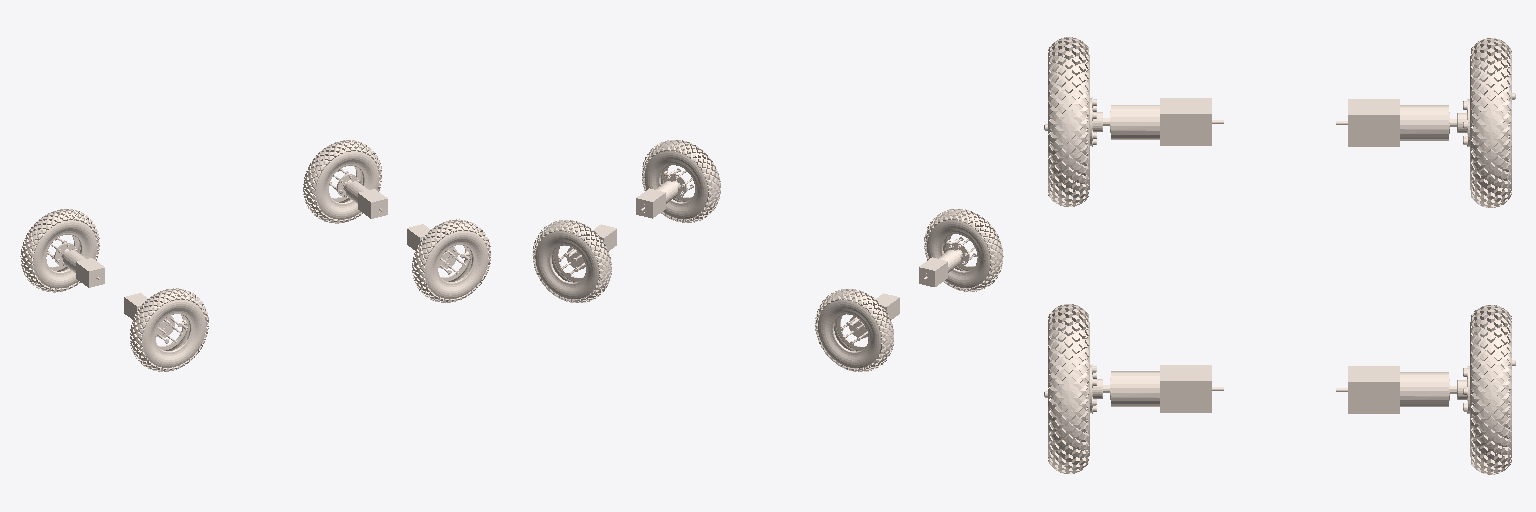
robot.urdf — ASIMOV_FINAL:
<?xml version="1.0" encoding="utf-8"?>
<!-- This URDF was automatically created by SolidWorks to URDF Exporter! Originally created by [author] ([email redacted]) 
     Commit Version: 1.6.0-4-g7f85cfe  Build Version: 1.6.7995.38578
     For more information, please see http://wiki.ros.org/sw_urdf_exporter -->
<robot
  name="ASIMOV_FINAL">
  <link
    name="base_link">
    <inertial>
      <origin
        xyz="-0.53696 -0.21064 0.13062"
        rpy="0 0 0" />
      <mass
        value="115.58" />
      <inertia
        ixx="1.3205"
        ixy="6.2294E-05"
        ixz="0.0013085"
        iyy="0.78204"
        iyz="-3.8013E-05"
        izz="1.2135" />
    </inertial>
    <visual>
      <origin
        xyz="0 0 0"
        rpy="0 0 0" />
      <geometry>
        <mesh
          filename="package://ASIMOV_FINAL/meshes/base_link.STL" />
      </geometry>
      <material
        name="">
        <color
          rgba="0.86667 0.9098 1 1" />
      </material>
    </visual>
    <collision>
      <origin
        xyz="0 0 0"
        rpy="0 0 0" />
      <geometry>
        <mesh
          filename="package://ASIMOV_FINAL/meshes/base_link.STL" />
      </geometry>
    </collision>
  </link>
  <link
    name="FL_wheel">
    <inertial>
      <origin
        xyz="-2.28862494917048E-05 -0.0567460289699821 6.89576709134443E-05"
        rpy="0 0 0" />
      <mass
        value="0.674278629838263" />
      <inertia
        ixx="0.00142621712450202"
        ixy="-1.28841356369281E-08"
        ixz="-1.89908204592661E-07"
        iyy="0.00217017090201744"
        iyz="3.85962784206893E-08"
        izz="0.00142832090168336" />
    </inertial>
    <visual>
      <origin
        xyz="0 0 0"
        rpy="0 0 0" />
      <geometry>
        <mesh
          filename="package://ASIMOV_FINAL/meshes/FL_wheel.STL" />
      </geometry>
      <material
        name="">
        <color
          rgba="1 0.949019607843137 0.909803921568627 1" />
      </material>
    </visual>
    <collision>
      <origin
        xyz="0 0 0"
        rpy="0 0 0" />
      <geometry>
        <mesh
          filename="package://ASIMOV_FINAL/meshes/FL_wheel.STL" />
      </geometry>
    </collision>
  </link>
  <joint
    name="fl-wheel"
    type="continuous">
    <origin
      xyz="-0.057013 0.063627 -0.131"
      rpy="0 0 0" />
    <parent
      link="base_link" />
    <child
      link="FL_wheel" />
    <axis
      xyz="0 1 0" />
    <limit
      effort="10"
      velocity="10" />
    <dynamics
      damping="0.1"
      friction="0.1" />
  </joint>
  <link
    name="FR_wheel">
    <inertial>
      <origin
        xyz="7.06739163675585E-05 0.0567460290366726 1.68565957301137E-05"
        rpy="0 0 0" />
      <mass
        value="0.674278629778646" />
      <inertia
        ixx="0.00142675509369831"
        ixy="-3.95808281660765E-08"
        ixz="1.43318405792617E-07"
        iyy="0.0021701709200216"
        iyz="-9.37490473157069E-09"
        izz="0.0014277829383342" />
    </inertial>
    <visual>
      <origin
        xyz="0 0 0"
        rpy="0 0 0" />
      <geometry>
        <mesh
          filename="package://ASIMOV_FINAL/meshes/FR_wheel.STL" />
      </geometry>
      <material
        name="">
        <color
          rgba="1 0.949019607843137 0.909803921568627 1" />
      </material>
    </visual>
    <collision>
      <origin
        xyz="0 0 0"
        rpy="0 0 0" />
      <geometry>
        <mesh
          filename="package://ASIMOV_FINAL/meshes/FR_wheel.STL" />
      </geometry>
    </collision>
  </link>
  <joint
    name="fr-wheel"
    type="continuous">
    <origin
      xyz="-0.057013 -0.48363 -0.13"
      rpy="0 0 0" />
    <parent
      link="base_link" />
    <child
      link="FR_wheel" />
    <axis
      xyz="0 1 0" />
    <limit
      effort="10"
      velocity="10" />
    <dynamics
      damping="0.1"
      friction="0.1" />
  </joint>
  <link
    name="RR_wheel">
    <inertial>
      <origin
        xyz="7.0673916367725E-05 0.0567460290366725 1.68565957301137E-05"
        rpy="0 0 0" />
      <mass
        value="0.674278629778648" />
      <inertia
        ixx="0.00142675509369832"
        ixy="-3.95808281657698E-08"
        ixz="1.43318405800376E-07"
        iyy="0.00217017092002161"
        iyz="-9.3749047293493E-09"
        izz="0.0014277829383342" />
    </inertial>
    <visual>
      <origin
        xyz="0 0 0"
        rpy="0 0 0" />
      <geometry>
        <mesh
          filename="package://ASIMOV_FINAL/meshes/RR_wheel.STL" />
      </geometry>
      <material
        name="">
        <color
          rgba="1 0.949019607843137 0.909803921568627 1" />
      </material>
    </visual>
    <collision>
      <origin
        xyz="0 0 0"
        rpy="0 0 0" />
      <geometry>
        <mesh
          filename="package://ASIMOV_FINAL/meshes/RR_wheel.STL" />
      </geometry>
    </collision>
  </link>
  <joint
    name="rr-wheel"
    type="continuous">
    <origin
      xyz="-0.80601 -0.48363 -0.13"
      rpy="0 0 0" />
    <parent
      link="base_link" />
    <child
      link="RR_wheel" />
    <axis
      xyz="0 1 0" />
    <limit
      effort="10"
      velocity="10" />
    <dynamics
      damping="0.1"
      friction="0.1" />
  </joint>
  <link
    name="RL_wheel">
    <inertial>
      <origin
        xyz="-2.28862494915383E-05 -0.0567460289699819 6.89576709133055E-05"
        rpy="0 0 0" />
      <mass
        value="0.674278629838263" />
      <inertia
        ixx="0.00142621712450202"
        ixy="-1.28841356379879E-08"
        ixz="-1.89908204595834E-07"
        iyy="0.00217017090201744"
        iyz="3.85962784214815E-08"
        izz="0.00142832090168335" />
    </inertial>
    <visual>
      <origin
        xyz="0 0 0"
        rpy="0 0 0" />
      <geometry>
        <mesh
          filename="package://ASIMOV_FINAL/meshes/RL_wheel.STL" />
      </geometry>
      <material
        name="">
        <color
          rgba="1 0.949019607843137 0.909803921568627 1" />
      </material>
    </visual>
    <collision>
      <origin
        xyz="0 0 0"
        rpy="0 0 0" />
      <geometry>
        <mesh
          filename="package://ASIMOV_FINAL/meshes/RL_wheel.STL" />
      </geometry>
    </collision>
  </link>
  <joint
    name="rl-wheel"
    type="continuous">
    <origin
      xyz="-0.80601 0.063627 -0.131"
      rpy="0 0 0" />
    <parent
      link="base_link" />
    <child
      link="RL_wheel" />
    <axis
      xyz="0 1 0" />
    <limit
      effort="10"
      velocity="10" />
    <dynamics
      damping="0.1"
      friction="0.1" />
  </joint>
</robot>

--- Render facts (derived) ---
Views: 3 orthographic renders of the robot side by side, from view 1: azimuth 30°, elevation 25°; view 2: azimuth 150°, elevation 25°; view 3: azimuth 270°, elevation 25°.
Model ASIMOV_FINAL with 5 links and 4 joints (4 continuous), rooted at base_link, posed all joints at 0.
Links seen in each view (by area): view 1: RR_wheel, FR_wheel, FL_wheel, RL_wheel; view 2: FR_wheel, RR_wheel, RL_wheel, FL_wheel; view 3: FR_wheel, RL_wheel, RR_wheel, FL_wheel.
Link boxes in pixels (x1,y1,x2,y2): RR_wheel: [124, 288, 208, 371]; FR_wheel: [407, 219, 490, 302]; FL_wheel: [303, 140, 387, 223]; RL_wheel: [20, 209, 104, 292]; FR_wheel: [636, 140, 720, 222]; RR_wheel: [919, 209, 1003, 291]; RL_wheel: [815, 289, 899, 371]; FL_wheel: [532, 220, 616, 302]; FR_wheel: [1044, 304, 1223, 473]; RL_wheel: [1336, 38, 1515, 207]; RR_wheel: [1044, 37, 1223, 206]; FL_wheel: [1336, 305, 1515, 474].
Size in the robot's own frame: 0.9512 by 0.5589 by 0.2031 metres.
Meshes: 5 distinct files referenced, 4 mesh visuals loaded (4 binary STL); not drawn: 1 (reference not matched to a file when rendering).
